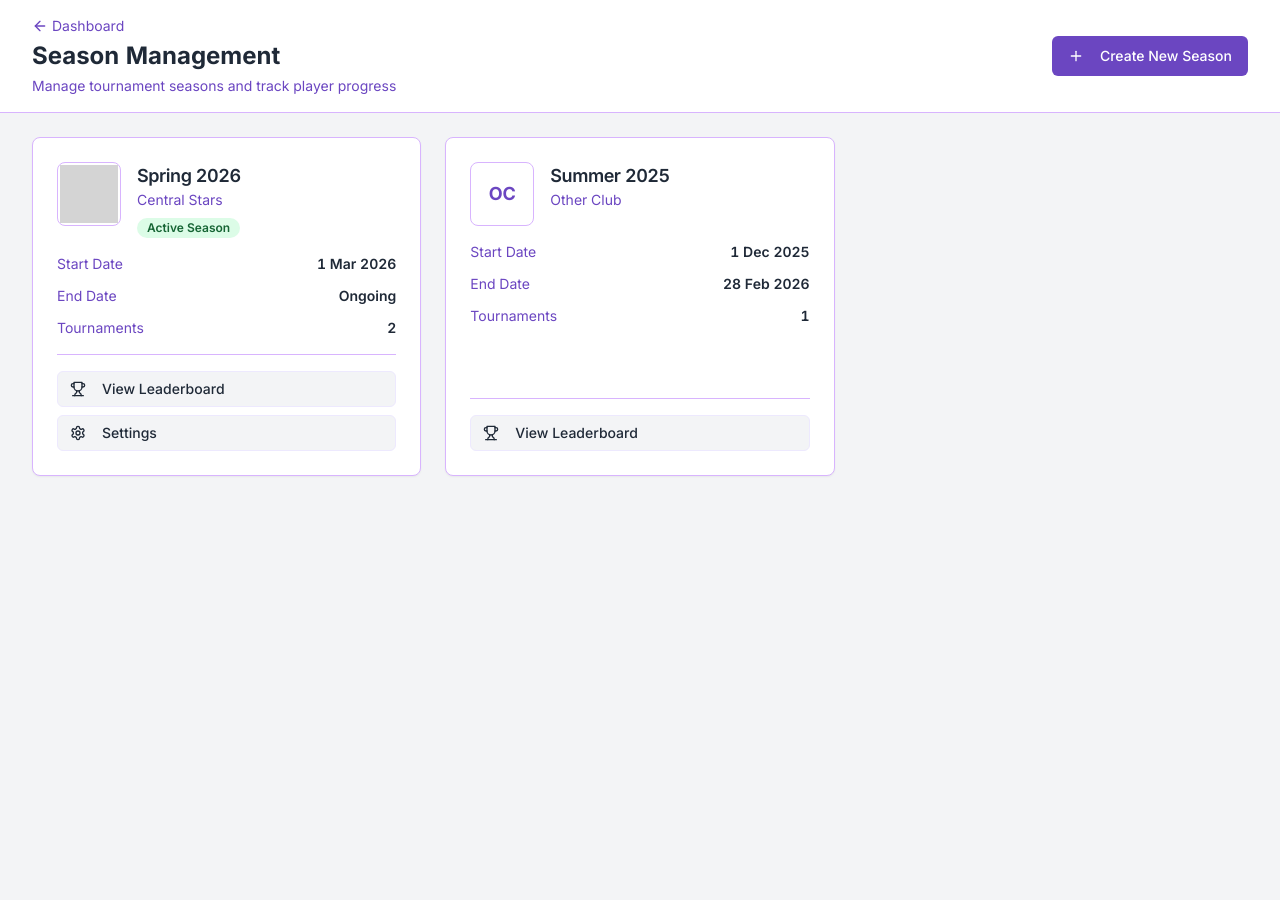
Test: Create New Season › asks for a name, a club and a start date before sending anything
The image size is (1280, 900).
Click the button with test id "create-season-button" at (1150, 56), box 1052,36 -> 1248,76
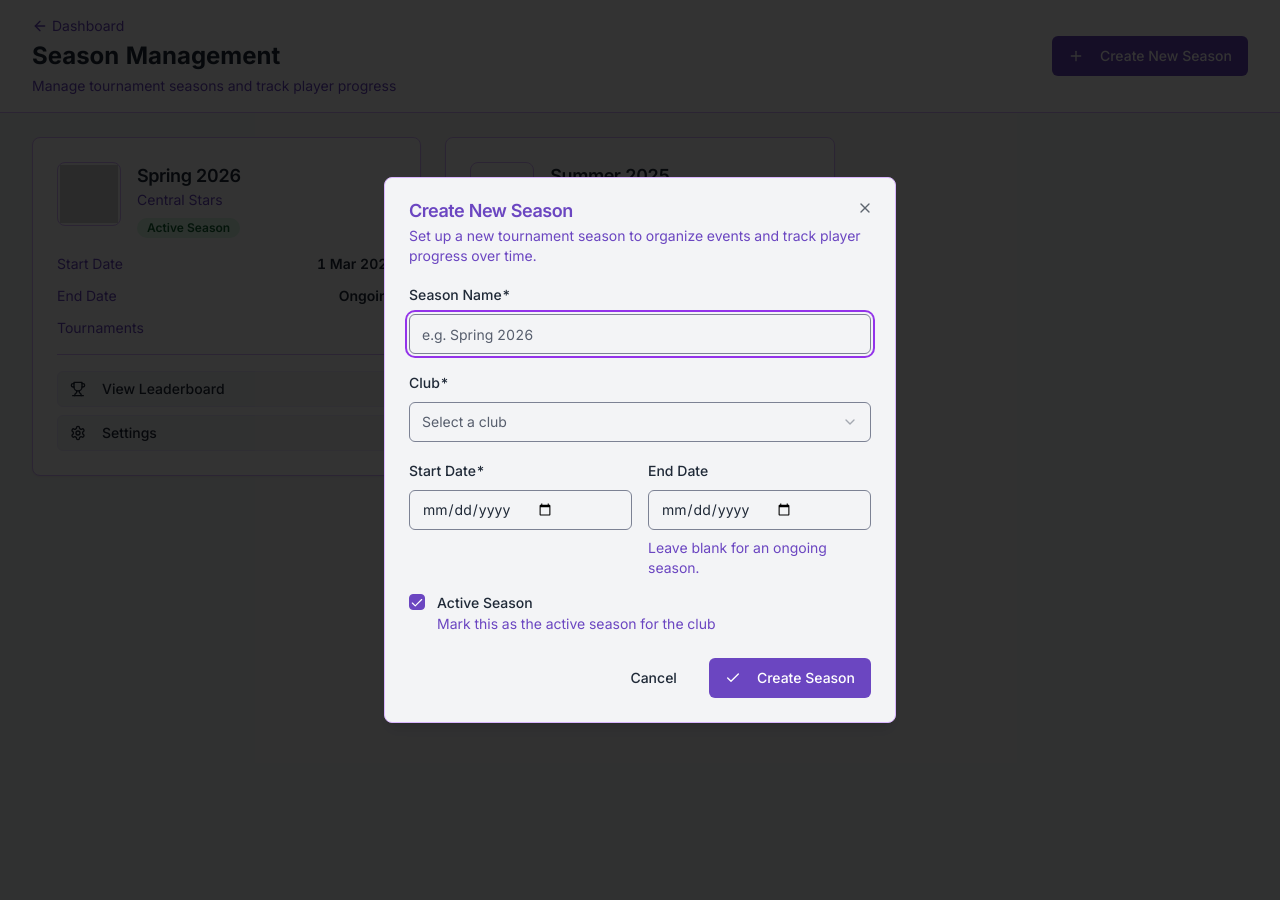
Click the button "Create Season" at (790, 678), box 709,658 -> 871,698
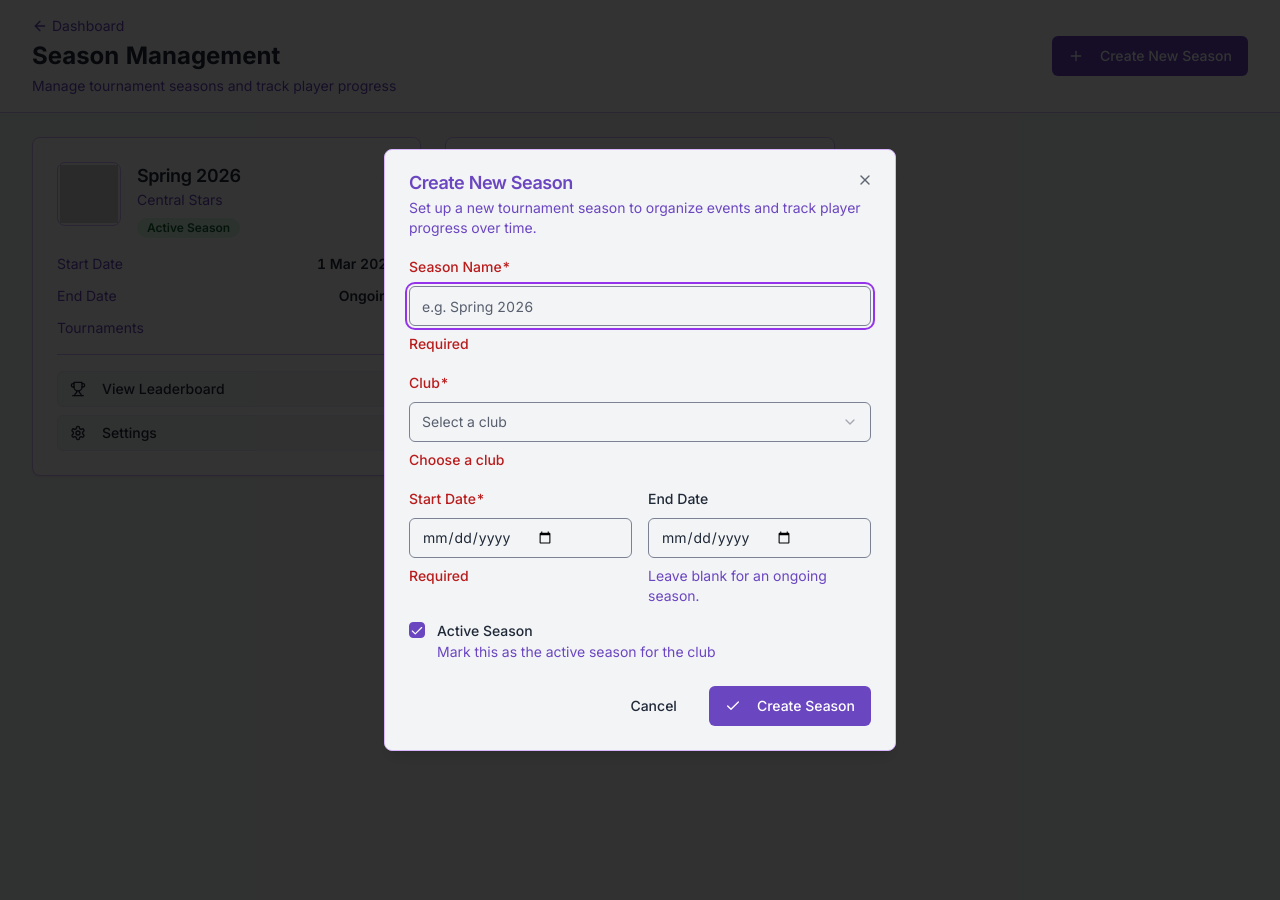
Expected: the text "Choose a club" is shown, 409,451 -> 504,468
Expected: the text "Required" is shown 2 times, 409,335 -> 469,352; 409,567 -> 469,584
